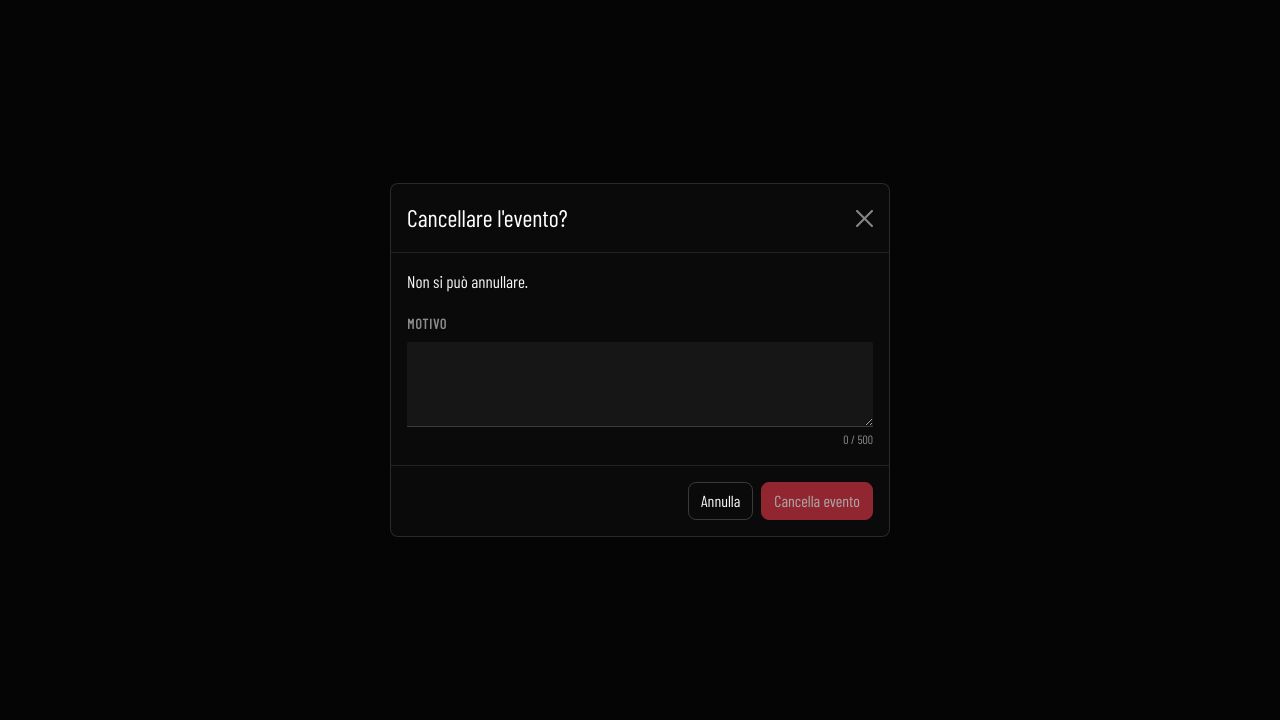
ConfirmDialog › con `reasonMin` › tiene la conferma spenta finché il motivo, senza spazi ai bordi, non ha il minimo dei caratteri
Expected: the button "Cancella evento" is disabled, [761,482,873,520]
Step 1. Type "  ab  " into the text box labelled "Motivo" → (640, 385), box [407,342,873,427]
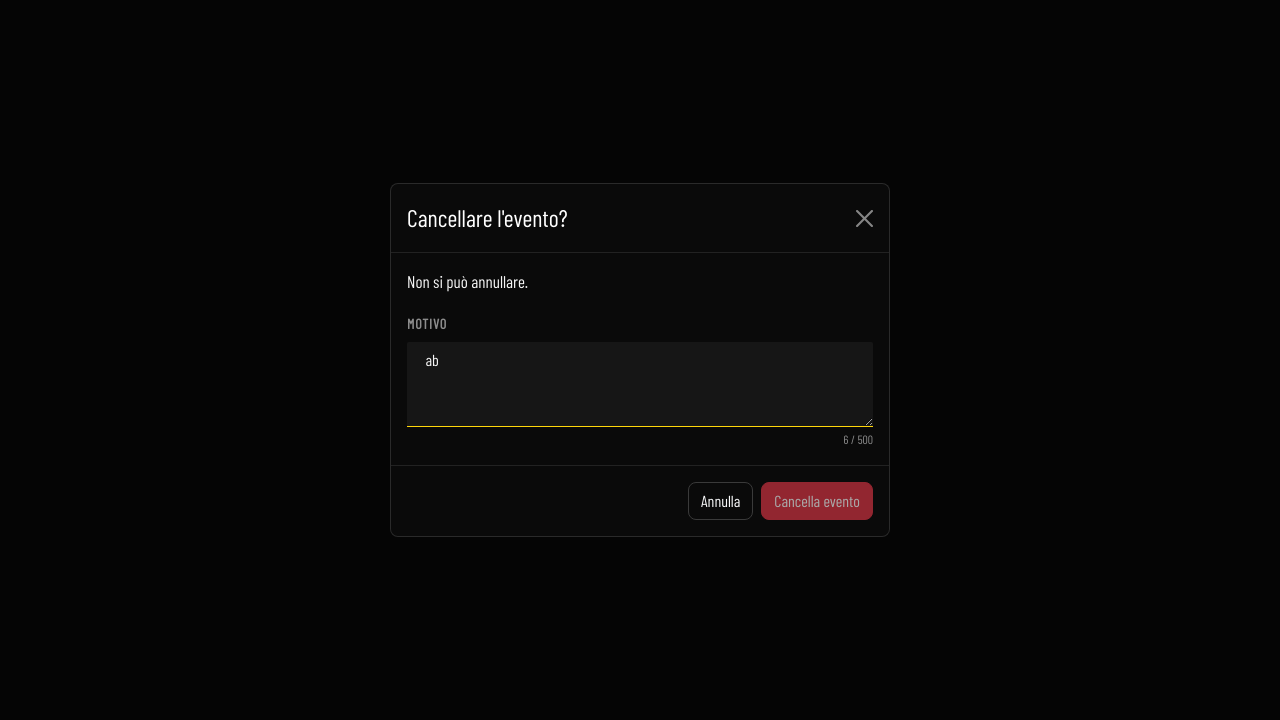
Expected: the button "Cancella evento" is disabled, [761,482,873,520]
Step 2. Type "c" into the text box labelled "Motivo" → (640, 385), box [407,342,873,427]
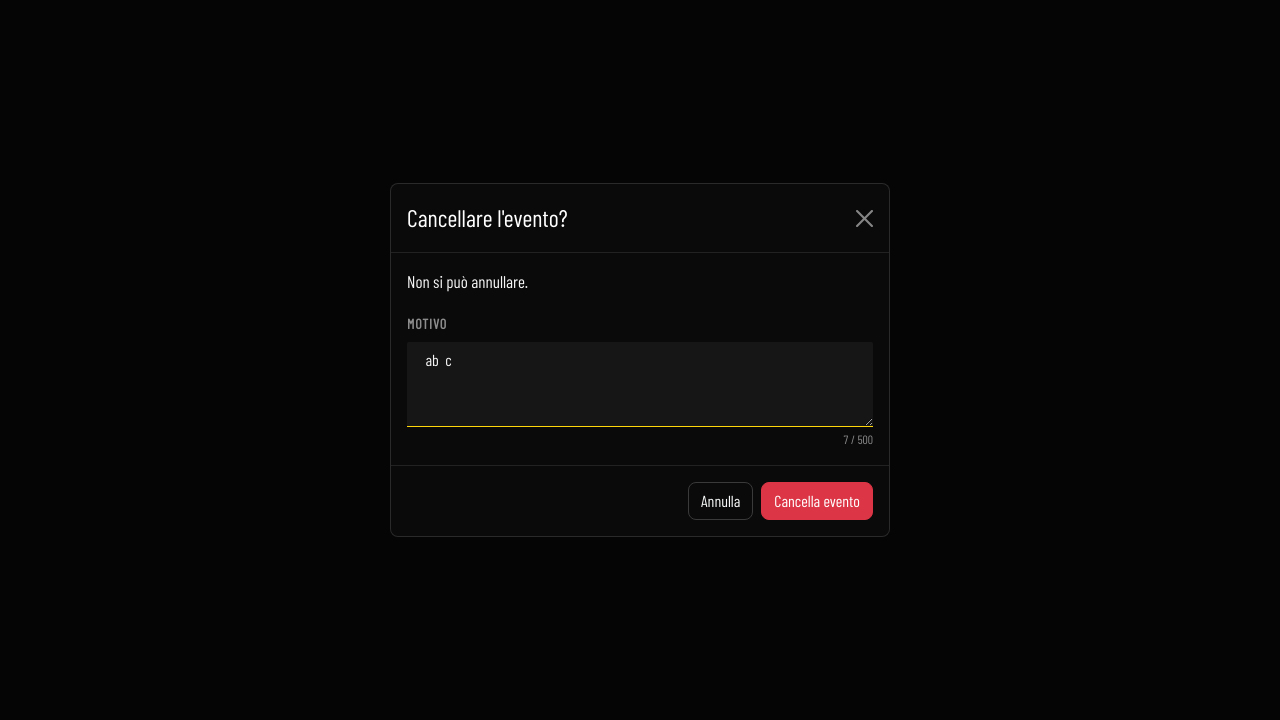
Now the button "Cancella evento" is enabled, box [761,482,873,520]
